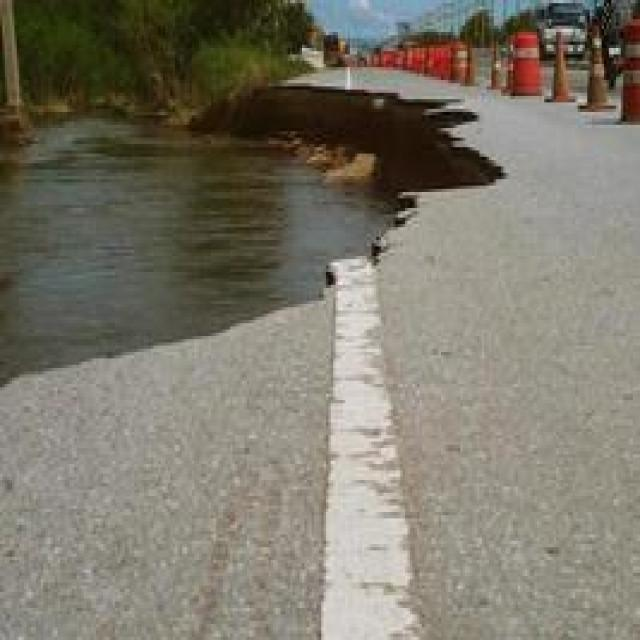road collapse: (0, 0, 520, 445)
